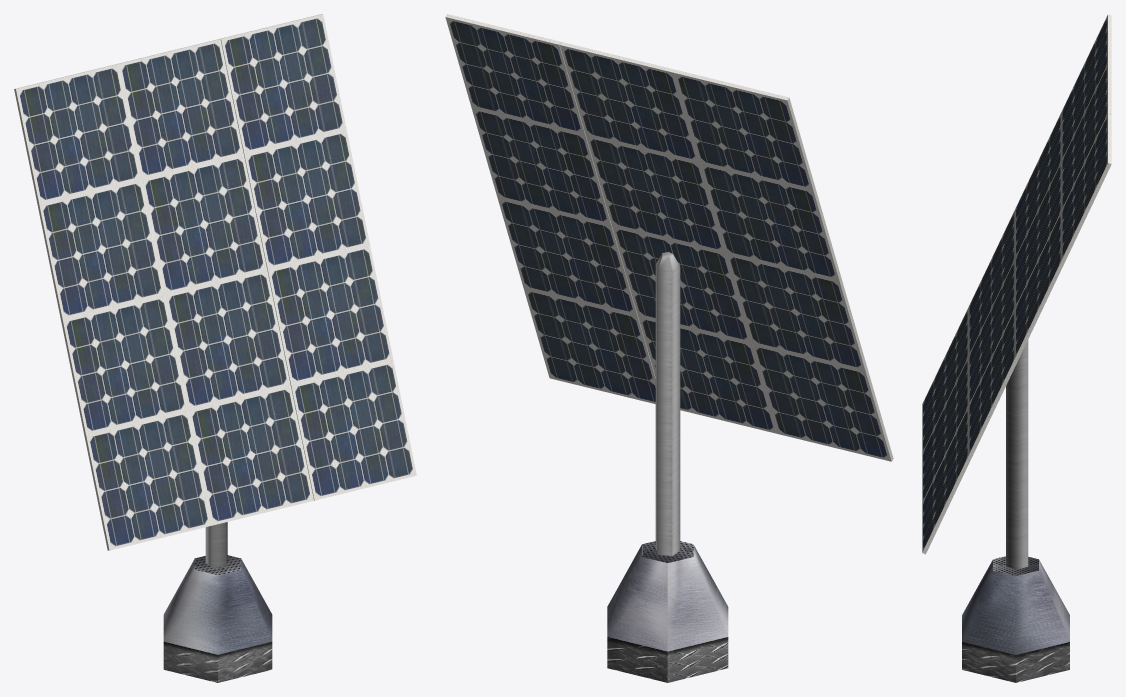
File: panel_02.fbx
3 renders of one model, left to right at view 1: azimuth 30°, elevation 25°; view 2: azimuth 150°, elevation 25°; view 3: azimuth 270°, elevation 25°, orthographic. The views are drawn at different scales.
Visible parts, largest first — view 1: cube_01_high10, cube_01_high3, cube_01_high6, cube_01_high1, cube_01_high12, cube_01_high8, cube_01_high9, cube_01_high7, cube_01_high11, cube_01_high2, cube_01_high4, cube_01_high5 (+2 smaller); view 2: pCylinder19, cube_01_high10, cube_01_high12, cube_01_high11, cube_01_high1, cube_01_high6, cube_01_high3, cube_01_high9, cube_01_high7, cube_01_high5, cube_01_high8, cube_01_high2 (+2 smaller); view 3: pCylinder19, pCylinder20, cube_01_high12, cube_01_high7, cube_01_high9, cube_01_high8, cube_01_high11, cube_01_high10, cube_01_high2, cube_01_high1, cube_01_high5, cube_01_high4 (+2 smaller).
Boxes of the visible parts, x1,y1,x2,y2 form: cube_01_high10: [14, 64, 141, 204]; cube_01_high3: [84, 410, 211, 550]; cube_01_high6: [37, 179, 164, 319]; cube_01_high1: [61, 295, 188, 435]; cube_01_high12: [220, 14, 346, 154]; cube_01_high8: [290, 360, 416, 500]; cube_01_high9: [244, 129, 369, 269]; cube_01_high7: [267, 245, 393, 385]; cube_01_high11: [118, 39, 243, 179]; cube_01_high2: [165, 270, 290, 410]; cube_01_high4: [188, 385, 313, 525]; cube_01_high5: [141, 154, 267, 294]; pCylinder19: [607, 541, 728, 682]; cube_01_high10: [673, 69, 815, 190]; cube_01_high12: [445, 14, 585, 134]; cube_01_high11: [560, 42, 699, 162]; cube_01_high1: [725, 253, 867, 371]; cube_01_high6: [699, 163, 841, 280]; cube_01_high3: [752, 344, 893, 461]; cube_01_high9: [471, 107, 611, 225]; cube_01_high7: [497, 197, 637, 315]; cube_01_high5: [586, 135, 725, 253]; cube_01_high8: [523, 288, 655, 403]; cube_01_high2: [612, 225, 751, 343]; pCylinder19: [962, 556, 1069, 682]; pCylinder20: [1006, 340, 1028, 569]; cube_01_high12: [1061, 113, 1111, 261]; cube_01_high7: [968, 309, 1018, 456]; cube_01_high9: [1015, 211, 1064, 359]; cube_01_high8: [922, 407, 971, 554]; cube_01_high11: [1061, 63, 1111, 210]; cube_01_high10: [1061, 14, 1111, 160]; cube_01_high2: [968, 259, 1015, 405]; cube_01_high1: [968, 209, 1015, 355]; cube_01_high5: [1015, 162, 1061, 307]; cube_01_high4: [922, 357, 968, 502].
Bounding box in the file's own units: 30.05 × 53.38 × 16.16.
